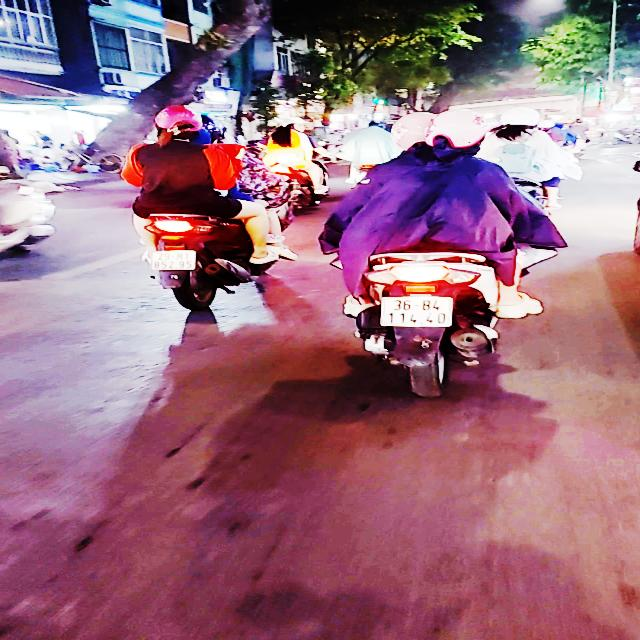license_plate: (381, 298, 455, 327), (151, 252, 197, 271)
